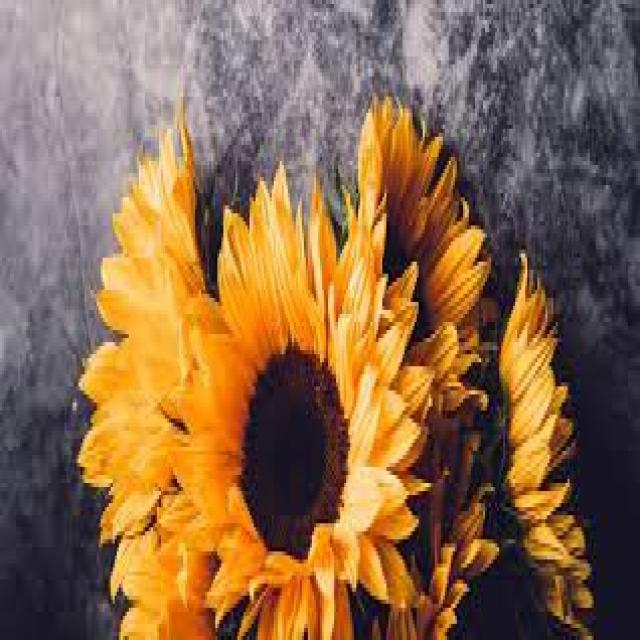sunflower: (168, 171, 429, 631), (76, 100, 206, 540), (348, 95, 491, 406), (502, 252, 592, 640), (376, 415, 498, 635), (112, 492, 214, 640)
